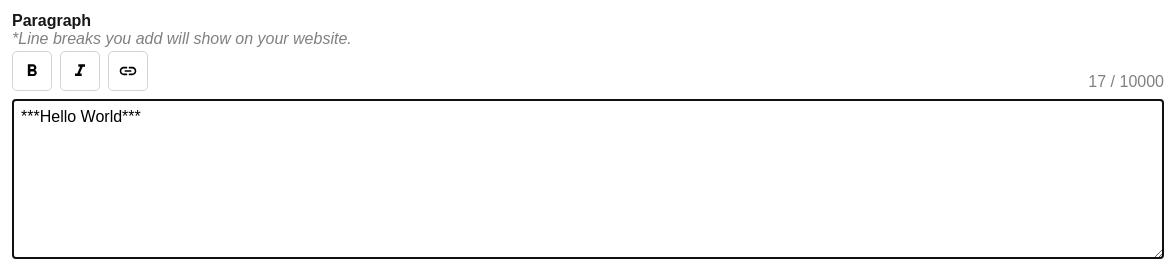
ParagraphField formatting › removes Bold from bold-italic words with the cursor after their last letter
Click the button named "Bold text in paragraph 1".
click(32, 71)  # box [12, 51, 52, 91]
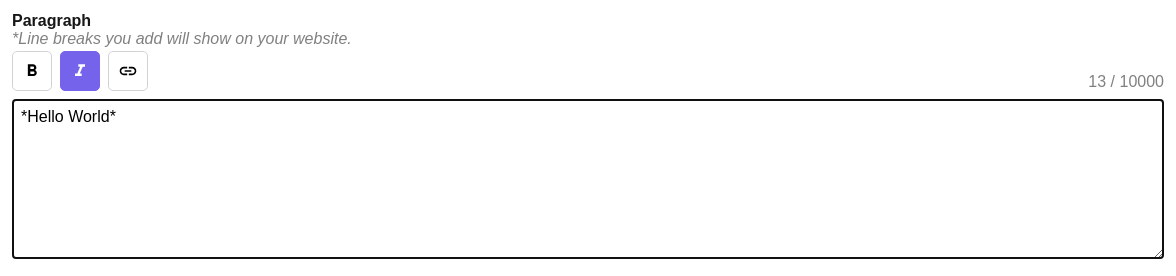
Now the text box labelled "Paragraph" holds "*Hello World*", box [12, 99, 1164, 259]
